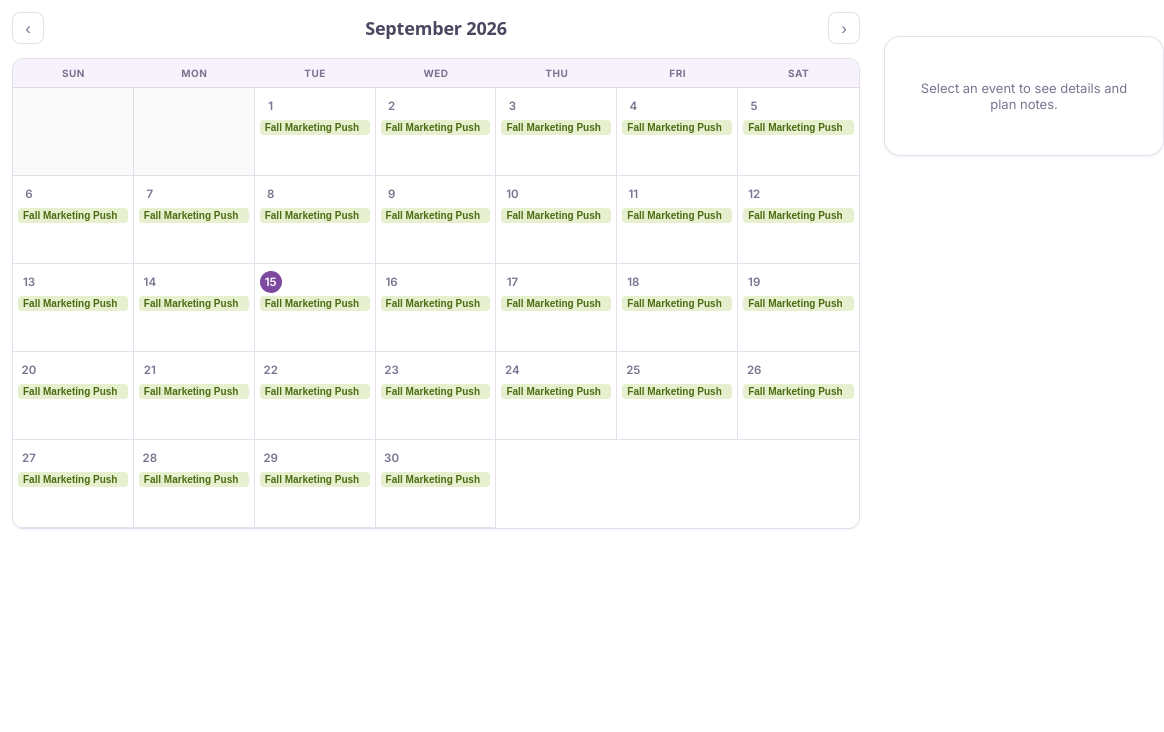
Test: CalendarView › navigates to the next month when the › button is clicked
This screenshot has width=1164, height=732.
Click the button "›" at (844, 28), box [828,12,860,44]
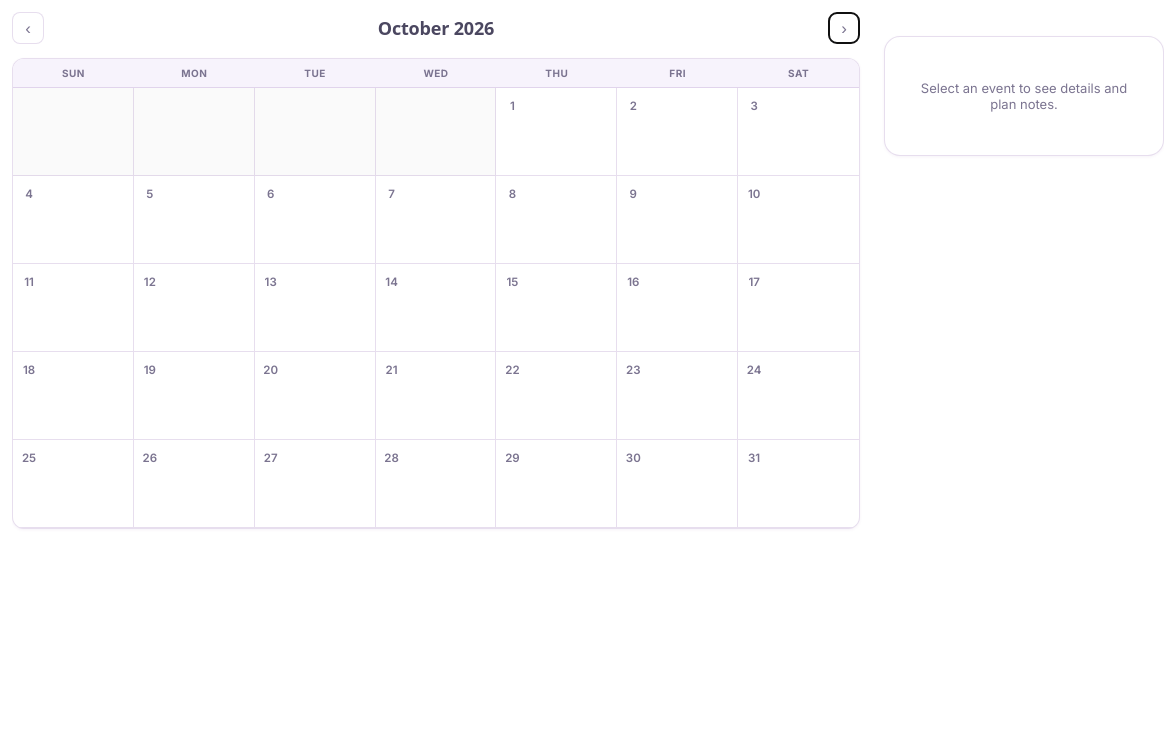
Now the heading "October 2026" is shown, box [378,16,494,40]
